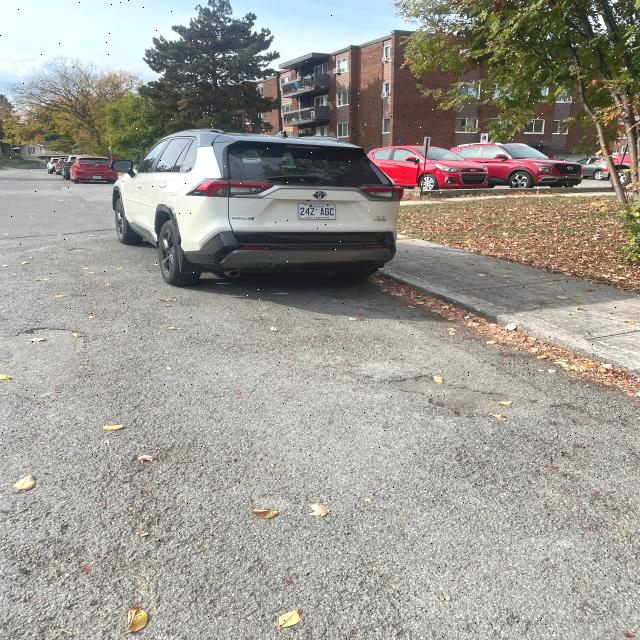plaque: (299, 204, 335, 219), (93, 176, 101, 179)
